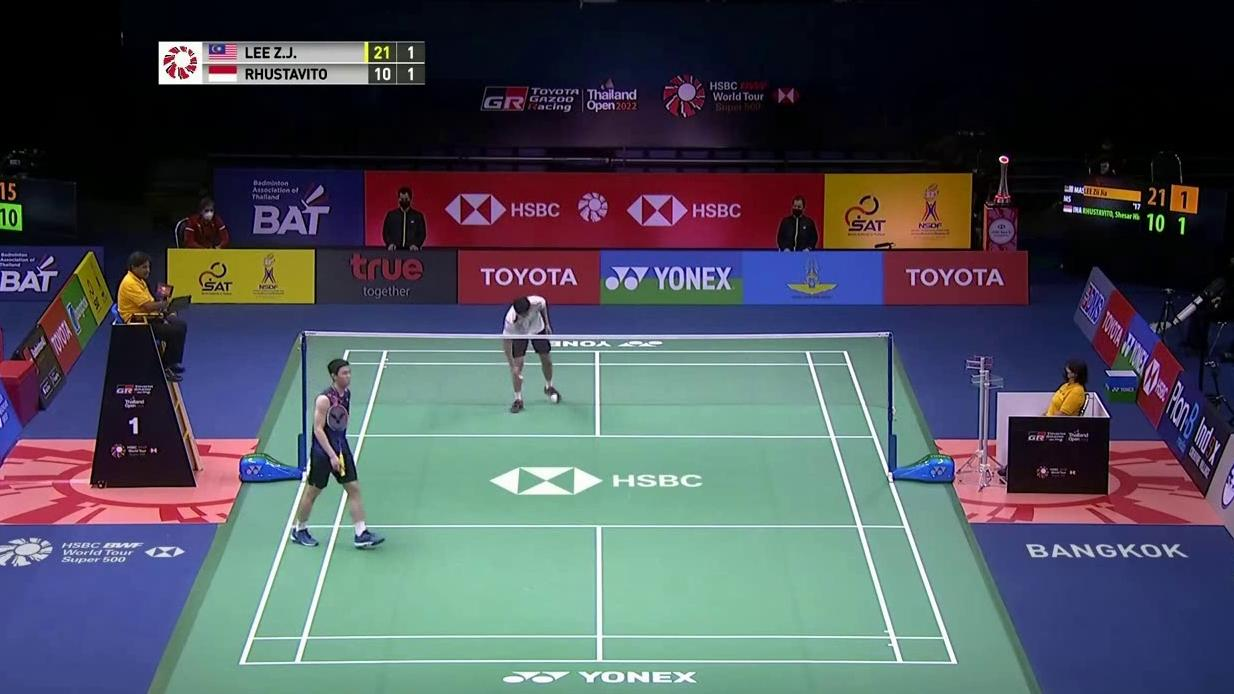racket: (327, 404, 348, 476)
shuttle: (550, 393, 558, 403)
